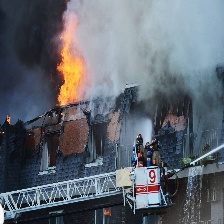fire: (52, 12, 84, 111), (4, 114, 12, 127)
smoke: (74, 1, 224, 121), (8, 3, 55, 94)
